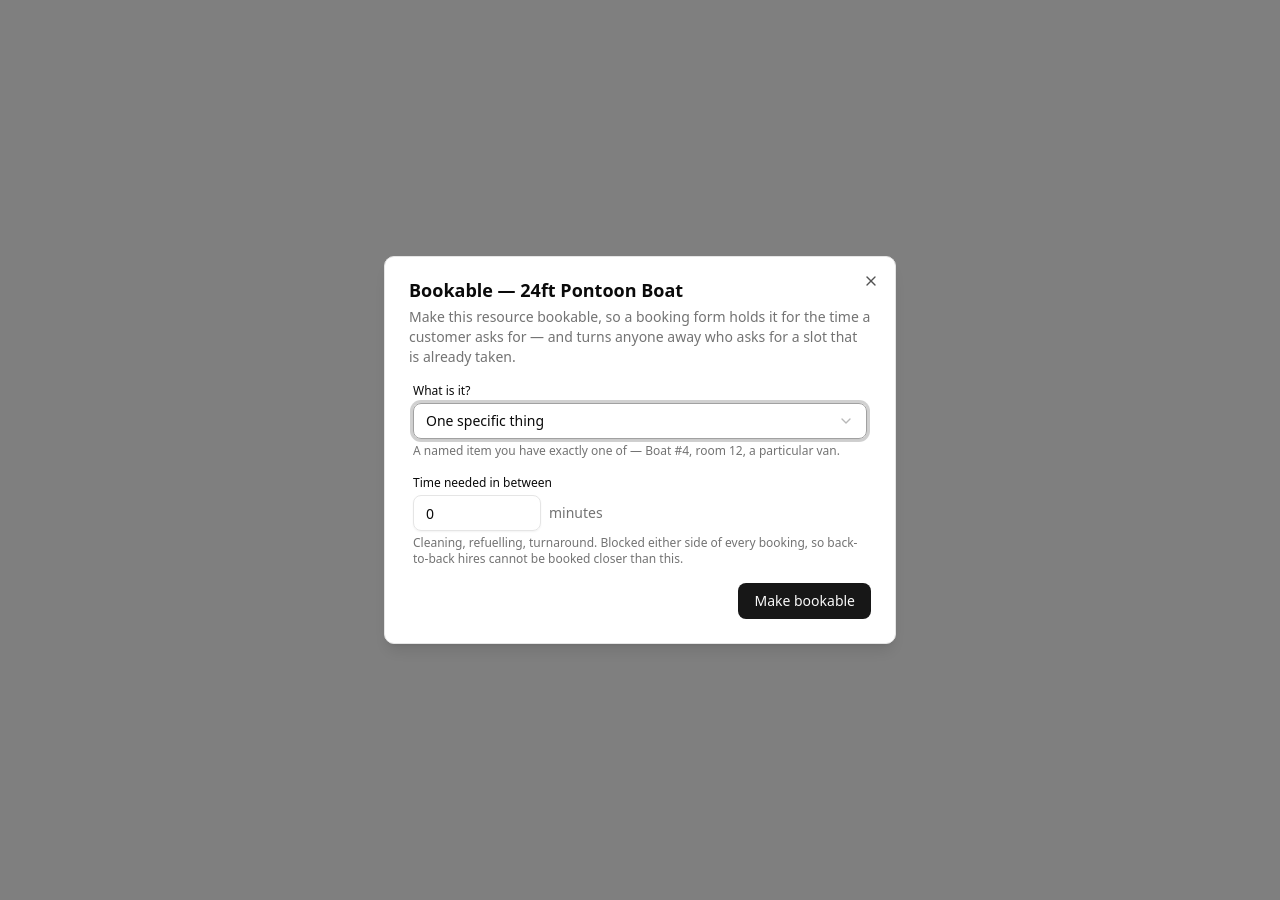
BookableDialog — creating a pool › will not save a stock of zero
Step 1. Click the dropdown named "What is it?" → (485, 420), box [413,403,867,439]
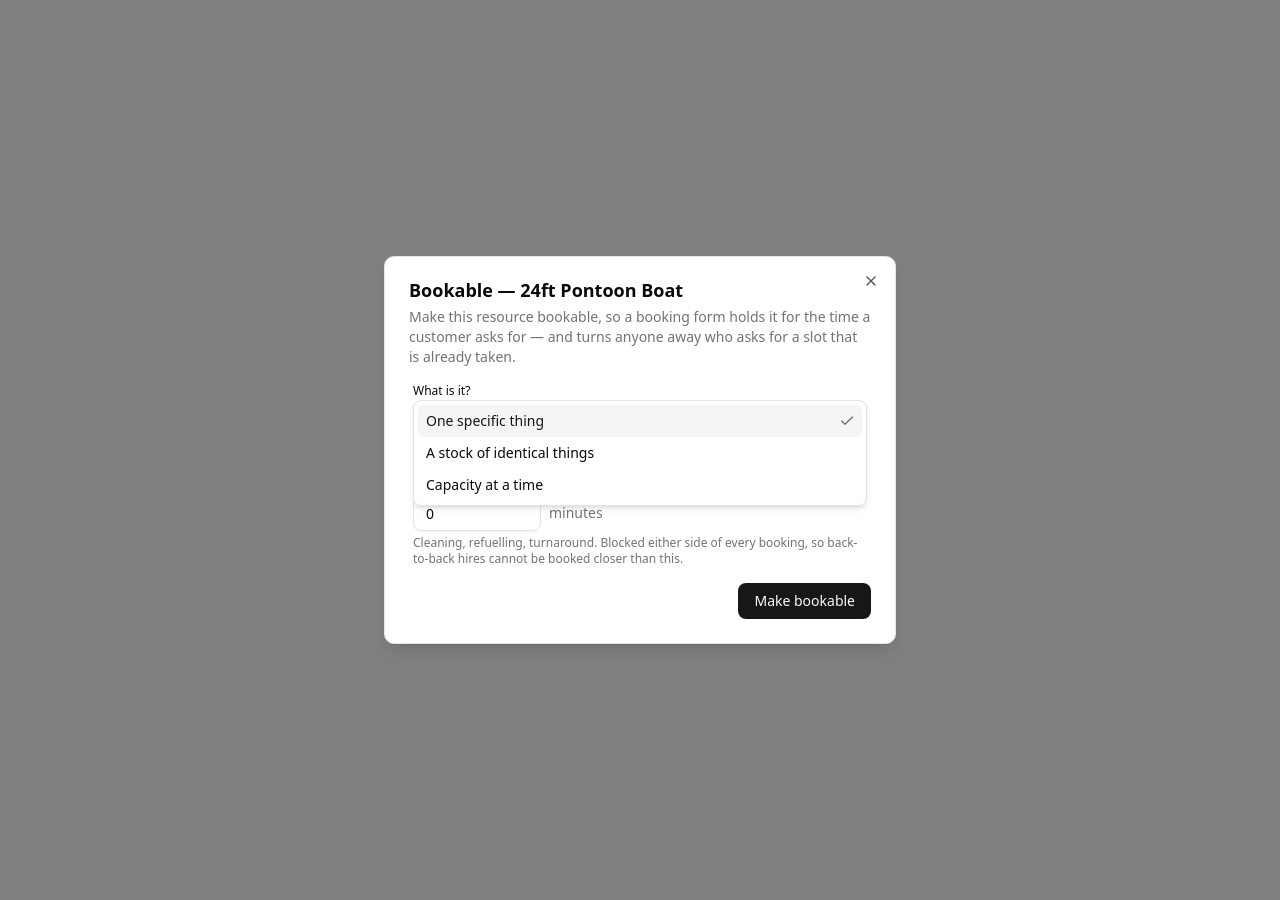
Step 2. Click the option "A stock of identical things" → (510, 452), box [426,443,594,462]
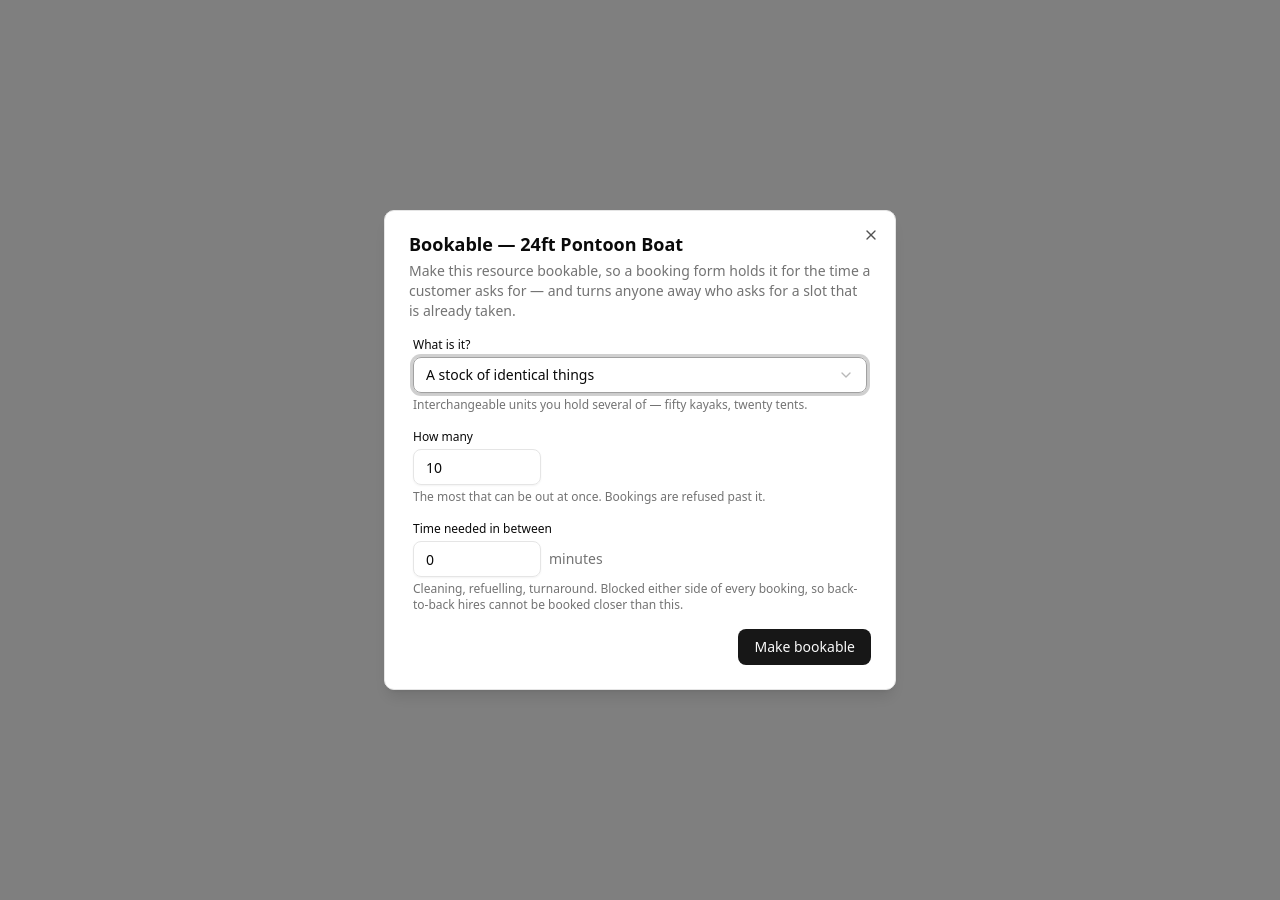
Step 3. Clear the number field labelled "How many" → (477, 467), box [413,449,541,485]
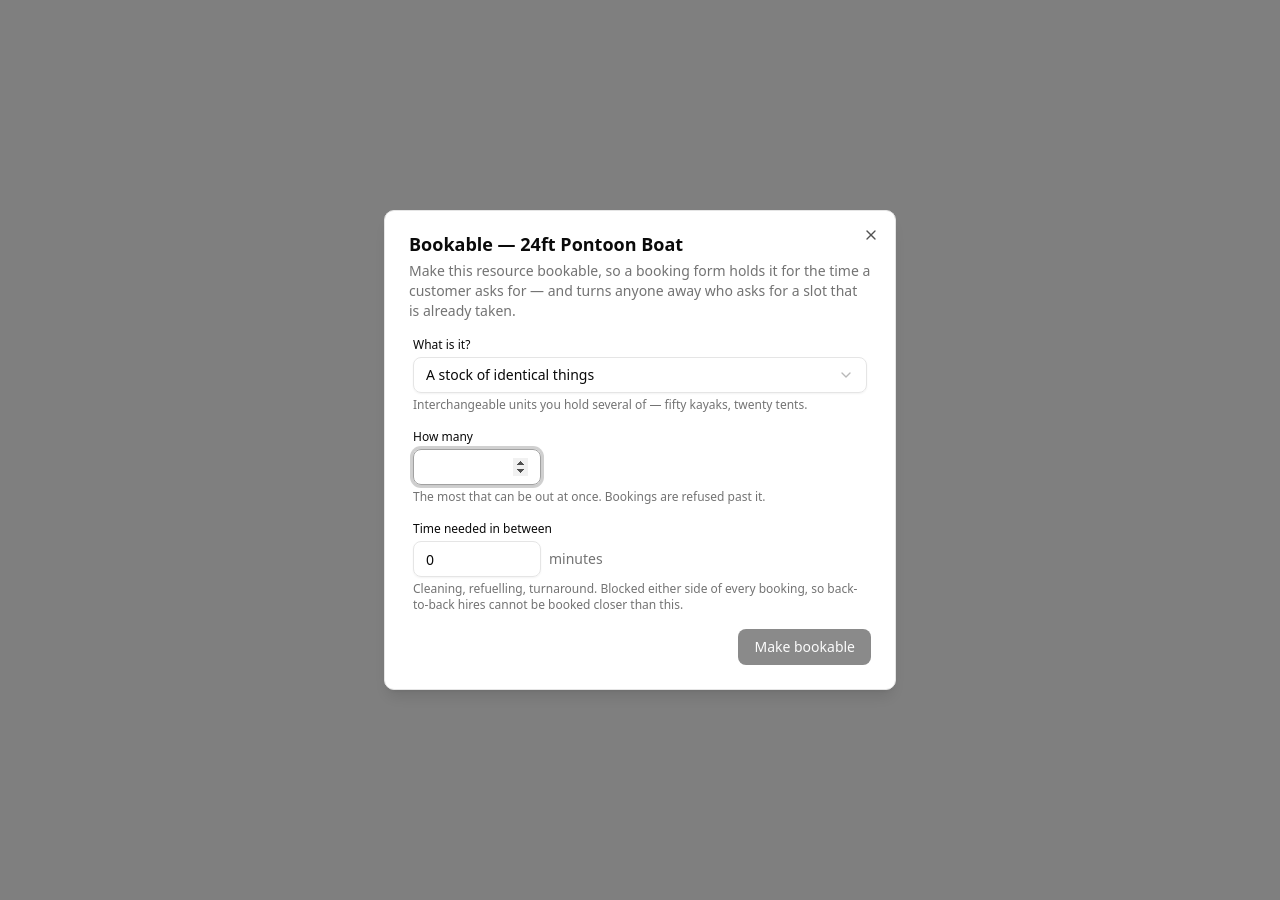
Check: the button "Make bookable" is disabled, box [738,629,871,665]
